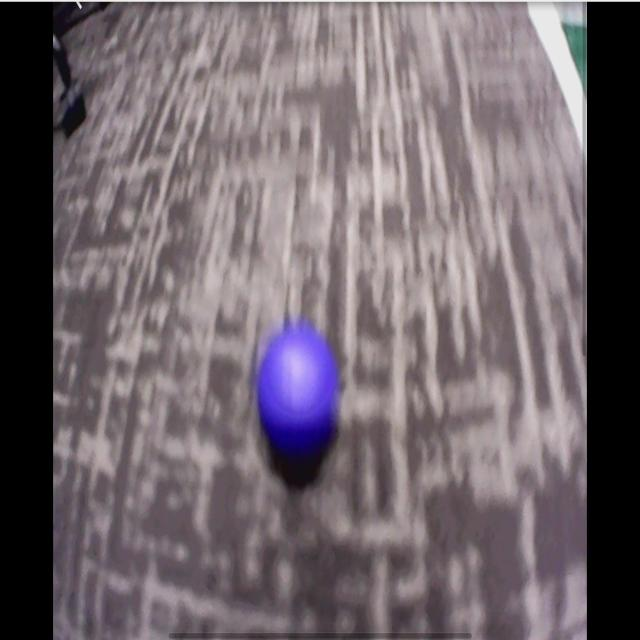ball: (259, 331, 337, 448)
